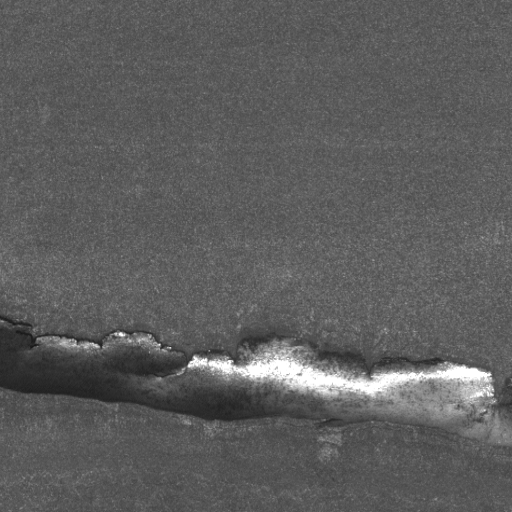qiaopi: (1, 315, 512, 447)
